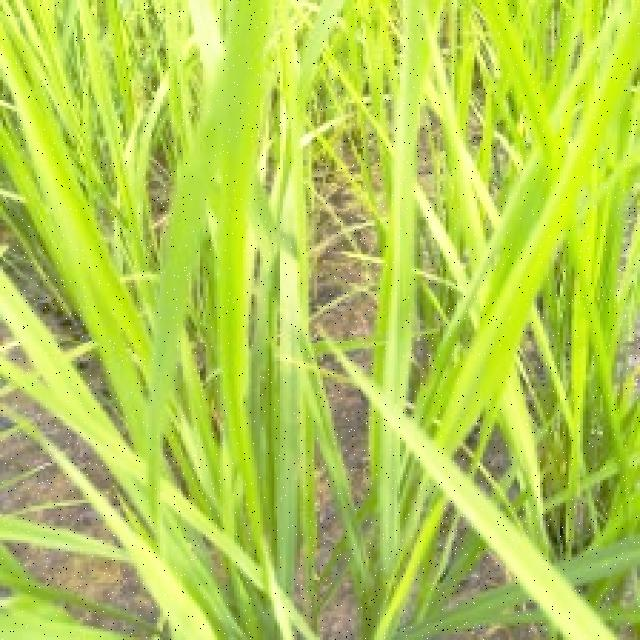health: (9, 18, 276, 434)
